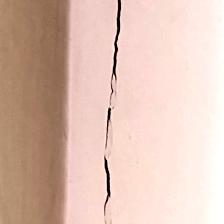High: (88, 1, 135, 224)
